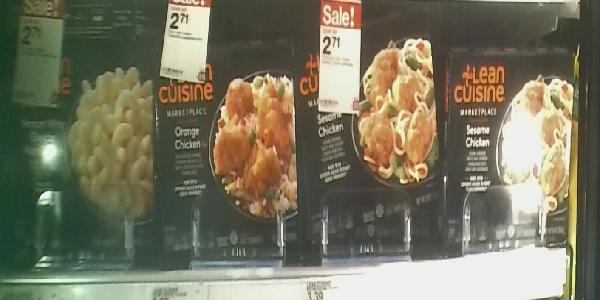pizza1: (11, 1, 160, 265), (299, 30, 446, 258), (157, 33, 299, 260), (448, 42, 577, 249)
